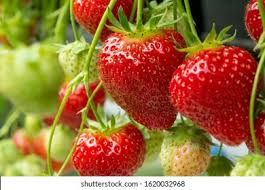ripe: (105, 20, 185, 135), (180, 44, 259, 148), (61, 124, 150, 180), (67, 1, 145, 40), (56, 78, 107, 122), (12, 127, 62, 161), (244, 1, 264, 45)
unripe: (4, 40, 71, 125), (160, 119, 213, 179), (56, 35, 104, 86), (126, 108, 158, 165), (43, 128, 80, 168)
